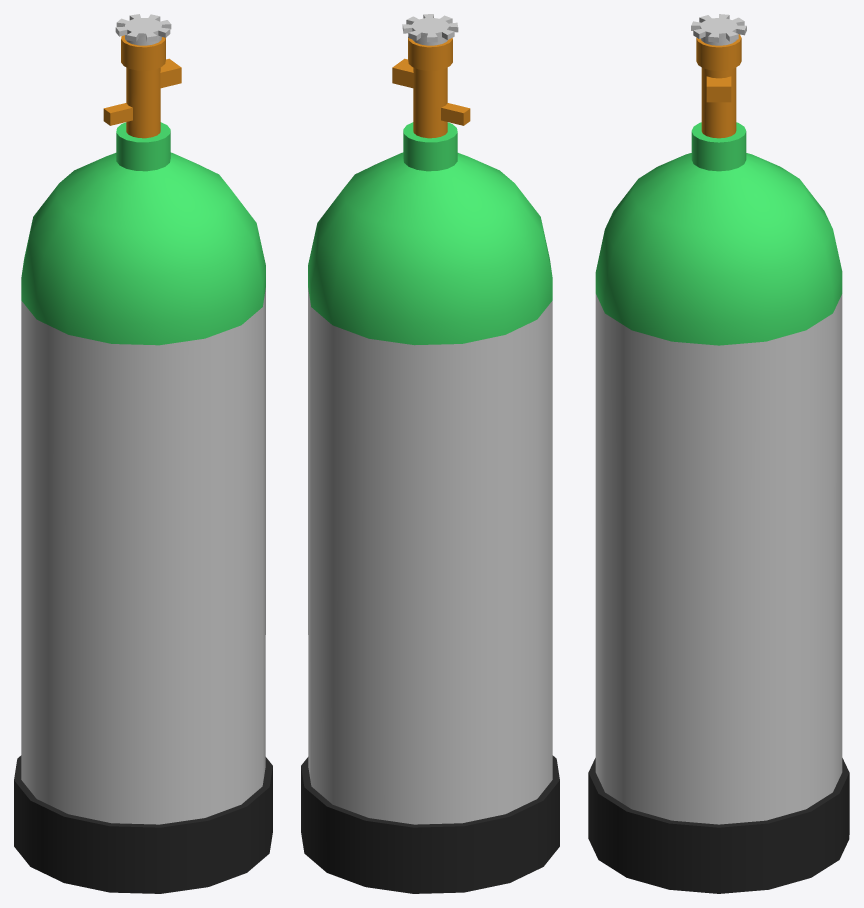
Rendered from player_bottle_o2.fbx.
The picture shows the model from 3 angles, left to right: view 1: azimuth 30°, elevation 25°; view 2: azimuth 150°, elevation 25°; view 3: azimuth 270°, elevation 25°; orthographic projection.
Parts seen in each view (by area): view 1: player_bottle_o2; view 2: player_bottle_o2; view 3: player_bottle_o2.
Part boxes in pixels (left/top/right/bottom): player_bottle_o2: left=14, top=14, right=272, bottom=893; player_bottle_o2: left=301, top=14, right=559, bottom=893; player_bottle_o2: left=588, top=14, right=849, bottom=893.
Bounding box in the file's own units: 0.205 × 0.7046 × 0.205.
